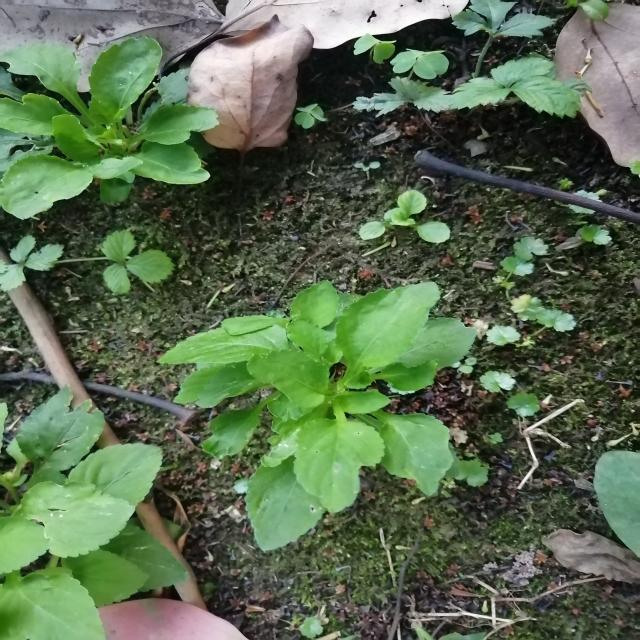Viola: (108, 285, 563, 515)
